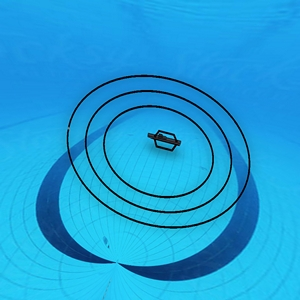circle: (66, 75, 251, 227)
submarine: (146, 130, 181, 151)
